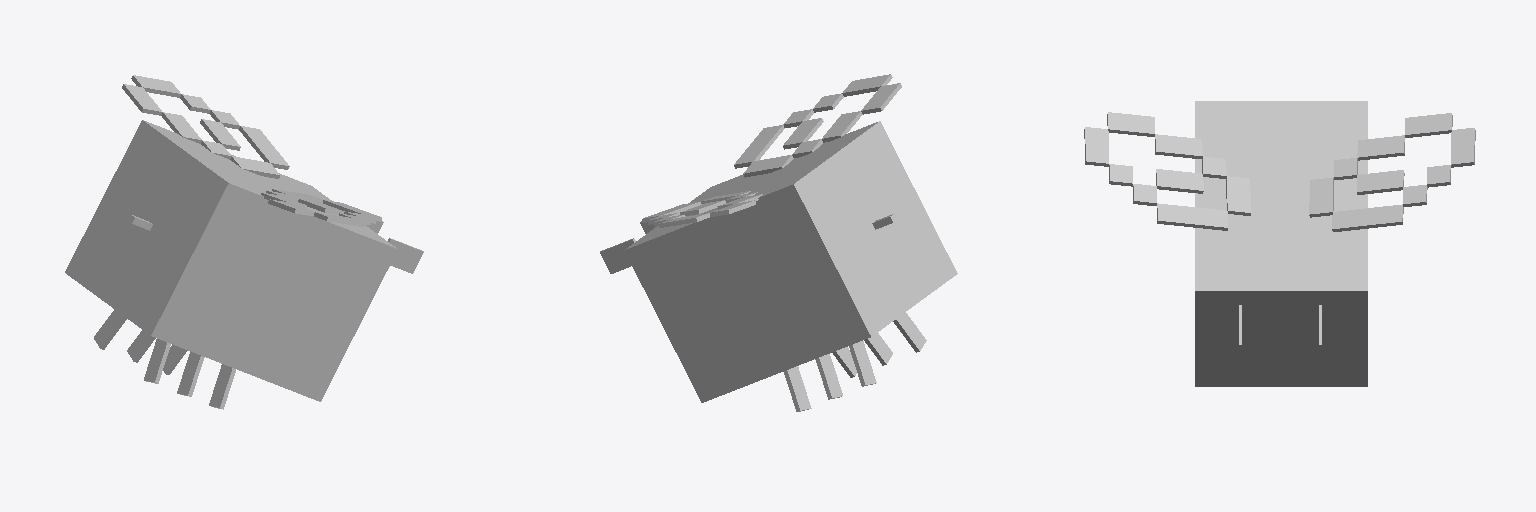
File: Bee_ (158).obj
3 views of the same model, side by side, from view 1: azimuth 30°, elevation 25°; view 2: azimuth 150°, elevation 25°; view 3: azimuth 270°, elevation 25° (orthographic).
Visible parts, largest first — view 1: b_Bee_MAT_0, r_Bee_MAT_0, l_Bee_MAT_0; view 2: b_Bee_MAT_0, l_Bee_MAT_0, r_Bee_MAT_0; view 3: b_Bee_MAT_0, l_Bee_MAT_0, r_Bee_MAT_0.
Part boxes in pixels (x1,y1,x2,y2): b_Bee_MAT_0: (65,120,423,409); r_Bee_MAT_0: (122,75,289,178); l_Bee_MAT_0: (261,189,381,226); b_Bee_MAT_0: (600,121,957,411); l_Bee_MAT_0: (734,74,901,177); r_Bee_MAT_0: (642,191,762,227); b_Bee_MAT_0: (1195,101,1367,386); l_Bee_MAT_0: (1084,112,1250,230); r_Bee_MAT_0: (1309,113,1475,231).
Size of the model in its own units: 0.309 by 0.2432 by 0.3555.